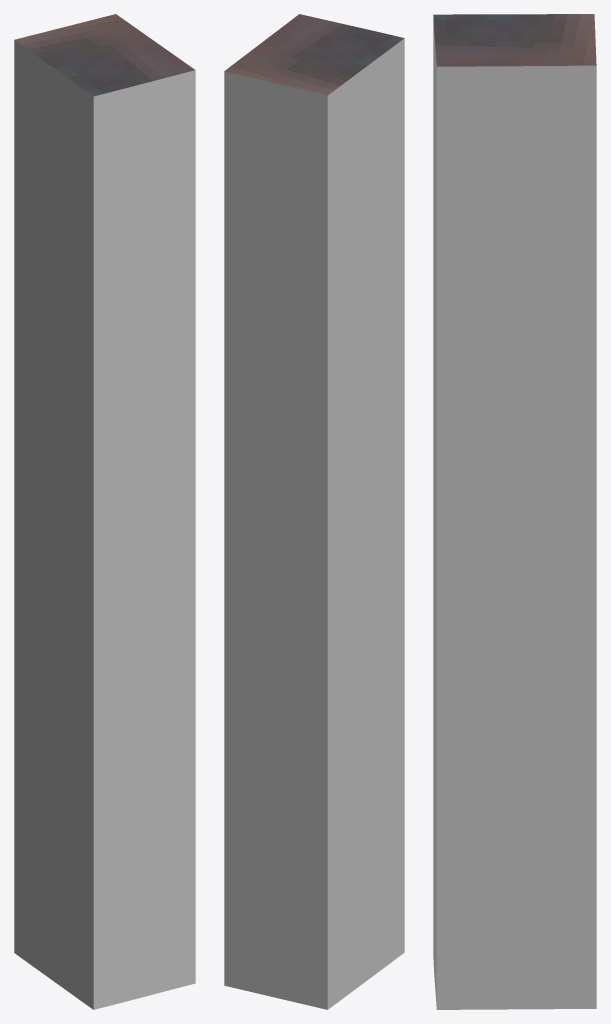
The model's file is DEBW_0010007THWn.gltf.
3 renders of one model, left to right at view 1: azimuth 30°, elevation 25°; view 2: azimuth 150°, elevation 25°; view 3: azimuth 270°, elevation 25°, orthographic. The views are drawn at different scales.
Visible parts, largest first — view 1: Z_UP; view 2: Z_UP; view 3: Z_UP.
Part boxes in pixels (bbox=[...]): Z_UP: bbox=[14, 14, 195, 1009]; Z_UP: bbox=[224, 14, 404, 1009]; Z_UP: bbox=[433, 14, 596, 1009].
Size of the model in its own units: 1.86 by 15.5 by 2.43.
2 materials, 1 textured.
